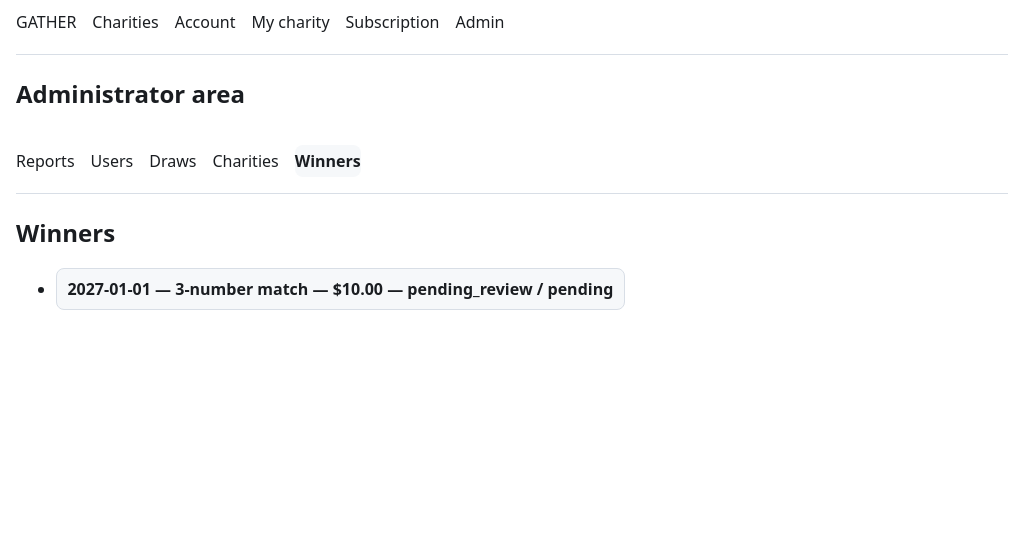
Test: AdminPage winners queue — approve/reject and mark paid (PRD §11 ADM-06) › lists winners across every user and lets an admin approve one
Click the button "3-number match": (340, 289) left=56, top=268, right=625, bottom=310
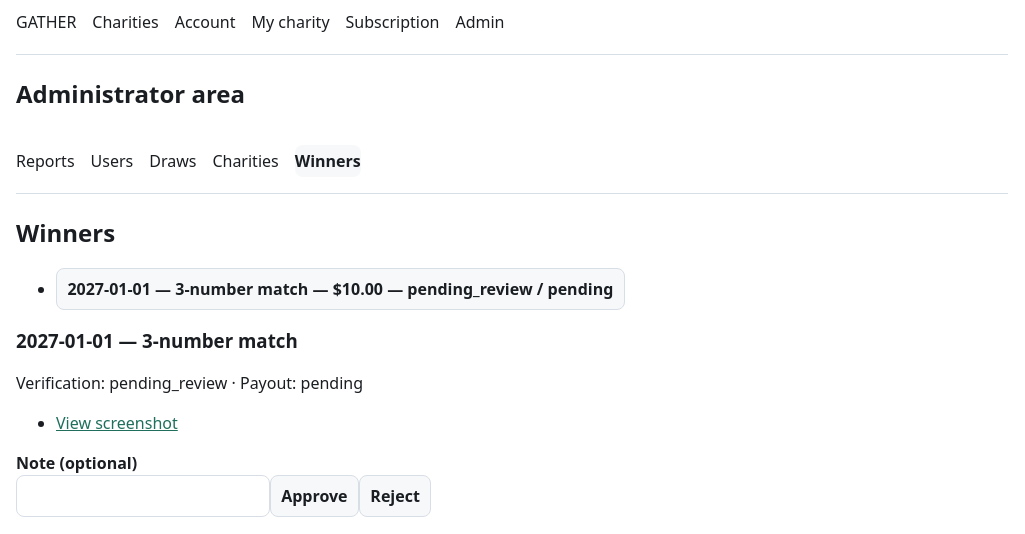
Click the button "Approve": (314, 496) left=270, top=475, right=359, bottom=517
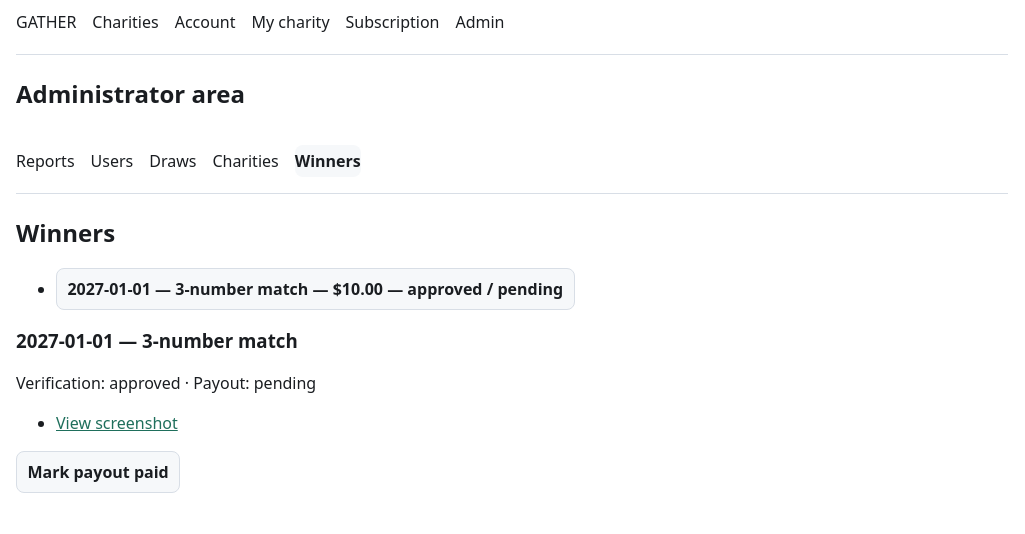
Result: the text "Verification: approved · Payout: pending" is shown at left=16, top=372, right=316, bottom=394
Result: the button "Mark payout paid" is shown at left=16, top=451, right=180, bottom=493
